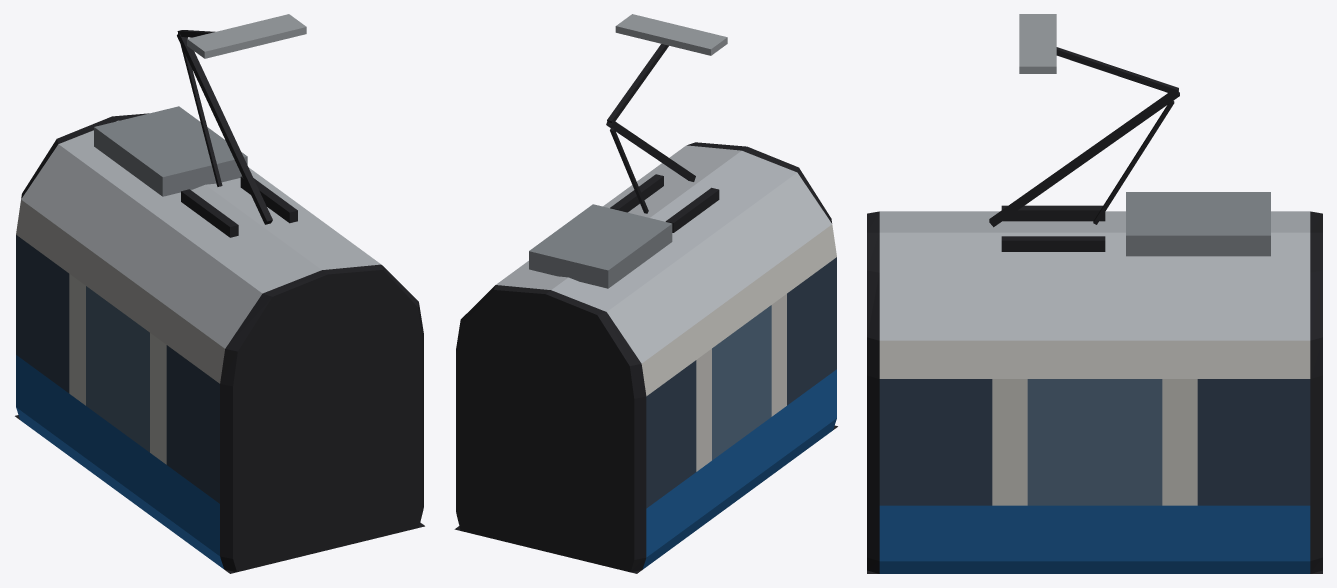
The model's file is flexity_zwischen.glb.
3 views of the same model, side by side, from view 1: azimuth 30°, elevation 25°; view 2: azimuth 150°, elevation 25°; view 3: azimuth 270°, elevation 25° (orthographic). The views are drawn at different scales.
Parts seen in each view (by area): view 1: body; view 2: body; view 3: body.
Part boxes in pixels (<box>): body: <box>15,14,424,573</box>; body: <box>454,14,837,573</box>; body: <box>867,14,1322,573</box>.
Size of the model in its own units: 2.4 by 5.15 by 4.4.
